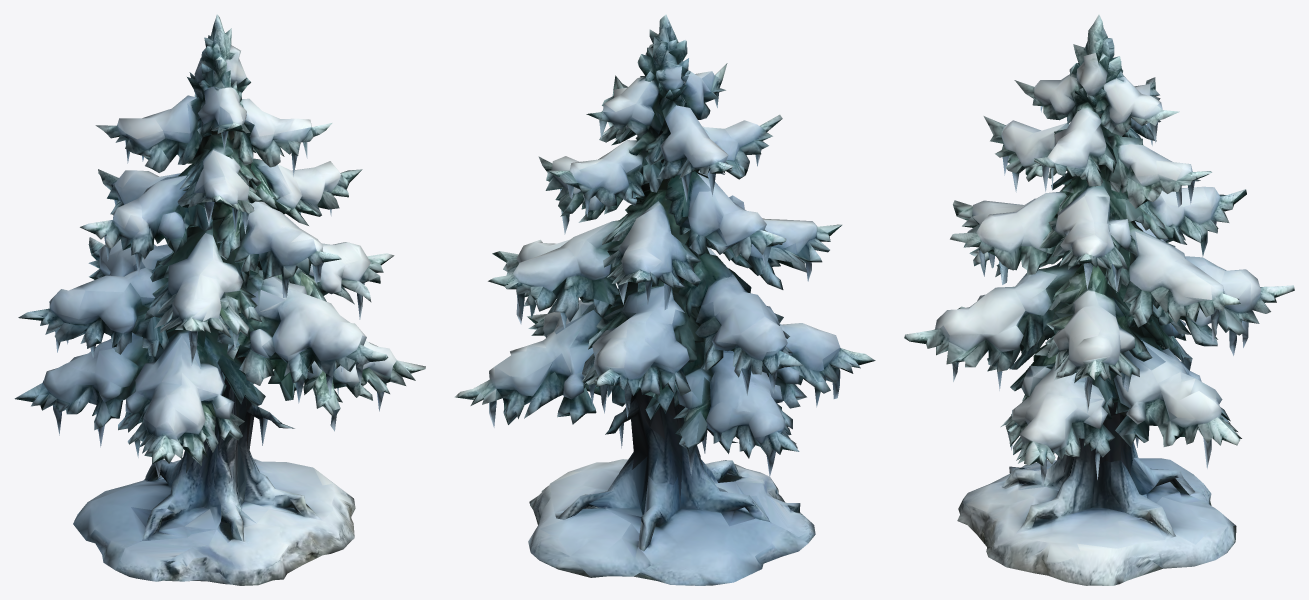
The model's file is f_pine_b.glb.
The picture shows the model from 3 angles, left to right: view 1: azimuth 30°, elevation 25°; view 2: azimuth 150°, elevation 25°; view 3: azimuth 270°, elevation 25°; orthographic projection.
Parts seen in each view (by area): view 1: tripo_node_b0574302-cff5-462b-a535-e874c06683a6; view 2: tripo_node_b0574302-cff5-462b-a535-e874c06683a6; view 3: tripo_node_b0574302-cff5-462b-a535-e874c06683a6.
Part boxes in pixels (x1,y1,x2,y2): tripo_node_b0574302-cff5-462b-a535-e874c06683a6: (14, 14, 425, 585); tripo_node_b0574302-cff5-462b-a535-e874c06683a6: (454, 14, 875, 585); tripo_node_b0574302-cff5-462b-a535-e874c06683a6: (904, 14, 1294, 585).
Size of the model in its own units: 0.6886 by 0.9821 by 0.6822.
Materials: 1 (1 with a texture image).
